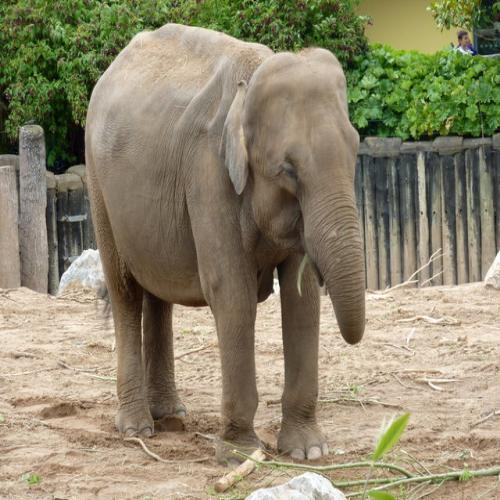asian_elephant-endangered: (84, 20, 366, 460)
